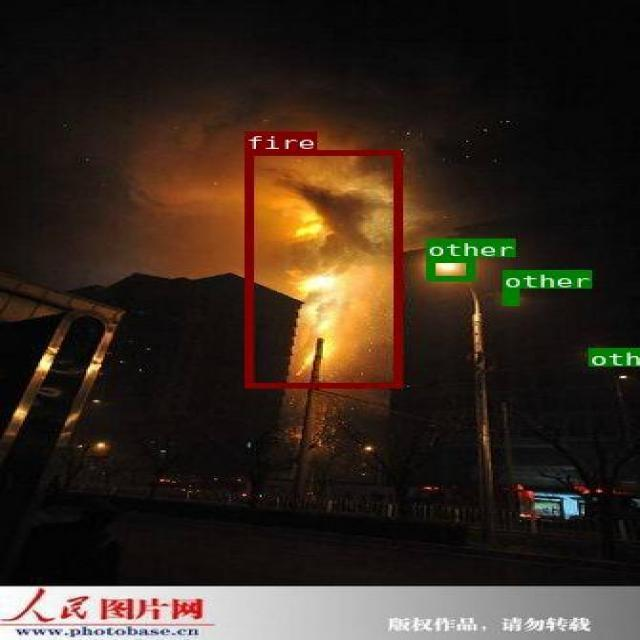fire: (244, 149, 401, 387)
